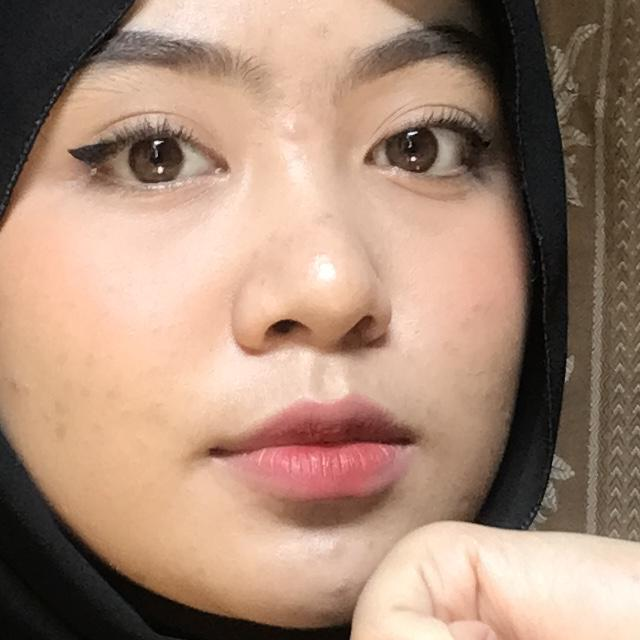sedih: (230, 426, 640, 640)
